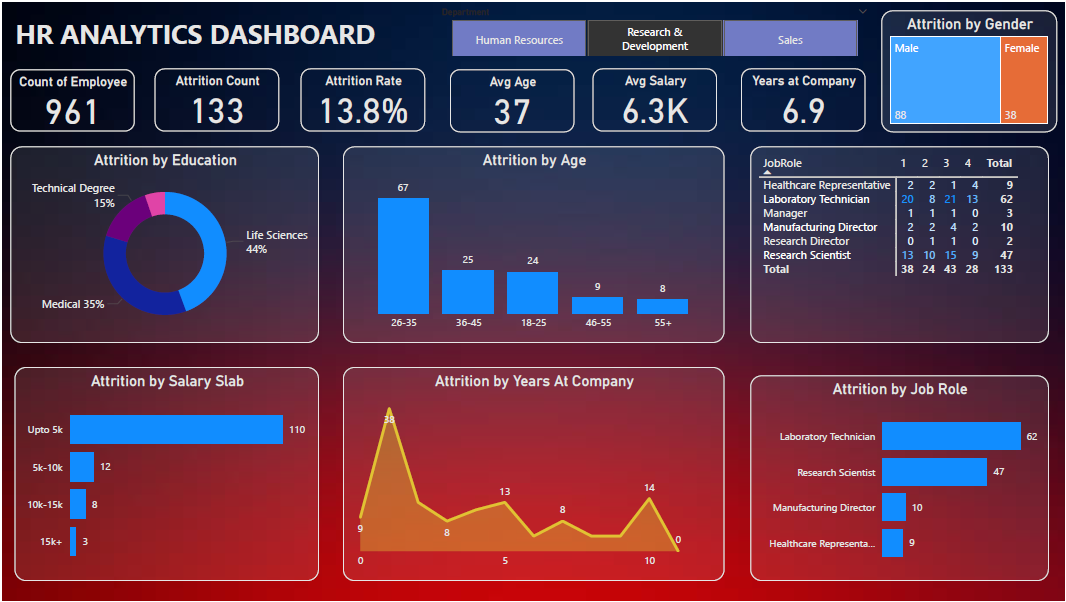

The dashboard page shown, as its layout file describes it:
{"tool":"powerbi","page":{"name":"Page 1","canvas":[1280,720],"ordinal":0},"visuals":[{"type":"textbox","box":[10,8.6,455.7,54.3],"z":0},{"type":"card","title":"Count of Employee","fields":{"Values":["CountNonNull(HR_Analytics.EmpID)"]},"box":[8.6,80.4,150,75],"z":1000},{"type":"card","title":"Avg Salary","fields":{"Values":["Avg(HR_Analytics.MonthlyIncome)"]},"box":[711.4,78.9,150,75.7],"z":2000},{"type":"card","title":"Avg Age","fields":{"Values":["Avg(HR_Analytics.Age)"]},"box":[538.6,80.4,150,75.7],"z":3000},{"type":"card","title":"Attrition Rate","fields":{"Values":["HR_Analytics.AttrtionRate"]},"box":[358.6,78.9,150,75.7],"z":4000},{"type":"card","title":"Attrition Count","fields":{"Values":["Sum(HR_Analytics.AttritionCount)"]},"box":[182.9,78.9,150,75.7],"z":5000},{"type":"card","title":"Years at Company","fields":{"Values":["Avg(HR_Analytics.YearsAtCompany)"]},"box":[890,78.9,150,75.7],"z":6000},{"type":"donutChart","title":"Attrition by Education","fields":{"Category":["HR_Analytics.EducationField"],"Y":["Sum(HR_Analytics.AttritionCount)"]},"box":[8.6,172.9,372.9,237.1],"z":7000},{"type":"columnChart","title":"Attrition by Age","fields":{"Category":["HR_Analytics.AgeGroup"],"Y":["Sum(HR_Analytics.AttritionCount)"]},"box":[410,172.9,460,237.1],"z":8000},{"type":"pivotTable","fields":{"Rows":["HR_Analytics.JobRole"],"Columns":["HR_Analytics.JobSatisfaction"],"Values":["Sum(HR_Analytics.AttritionCount)"]},"box":[901.4,172.9,360,237.1],"z":9000},{"type":"barChart","title":"Attrition by Salary Slab","fields":{"Category":["HR_Analytics.SalarySlab"],"Y":["Sum(HR_Analytics.AttritionCount)"]},"box":[14.3,438.6,367.1,258.6],"z":10000},{"type":"barChart","title":"Attrition by Job Role","fields":{"Y":["Sum(HR_Analytics.AttritionCount)"],"Category":["HR_Analytics.JobRole"]},"box":[901.4,448.6,360,248.6],"z":11000},{"type":"areaChart","title":"Attrition by Years At Company","fields":{"Category":["HR_Analytics.YearsAtCompany"],"Y":["Sum(HR_Analytics.AttritionCount)"]},"box":[410,438.6,460,258.6],"z":12000},{"type":"treemap","title":"Attrition by Gender","fields":{"Group":["HR_Analytics.Gender"],"Values":["Sum(HR_Analytics.AttritionCount)"]},"box":[1058.8,8.8,212.5,147.5],"z":13000},{"type":"slicer","fields":{"Values":["HR_Analytics.Department"]},"box":[515.7,0,538.6,64.3],"z":14000}]}

Visuals, with their boxes in screenshot pixels (x1, y1, x2, y2), scaled from the page's 1280x720 canvas onto the 1066x602 screenshot:
textbox: (left=8, top=7, right=388, bottom=53)
"Count of Employee" card: (left=7, top=67, right=132, bottom=130)
"Avg Salary" card: (left=592, top=66, right=717, bottom=129)
"Avg Age" card: (left=449, top=67, right=573, bottom=131)
"Attrition Rate" card: (left=299, top=66, right=424, bottom=129)
"Attrition Count" card: (left=152, top=66, right=277, bottom=129)
"Years at Company" card: (left=741, top=66, right=866, bottom=129)
"Attrition by Education" donutChart: (left=7, top=145, right=318, bottom=343)
"Attrition by Age" columnChart: (left=341, top=145, right=725, bottom=343)
pivotTable - HR_Analytics.JobRole x HR_Analytics.JobSatisfaction: (left=751, top=145, right=1051, bottom=343)
"Attrition by Salary Slab" barChart: (left=12, top=367, right=318, bottom=583)
"Attrition by Job Role" barChart: (left=751, top=375, right=1051, bottom=583)
"Attrition by Years At Company" areaChart: (left=341, top=367, right=725, bottom=583)
"Attrition by Gender" treemap: (left=882, top=7, right=1059, bottom=131)
slicer - HR_Analytics.Department: (left=429, top=0, right=878, bottom=54)
